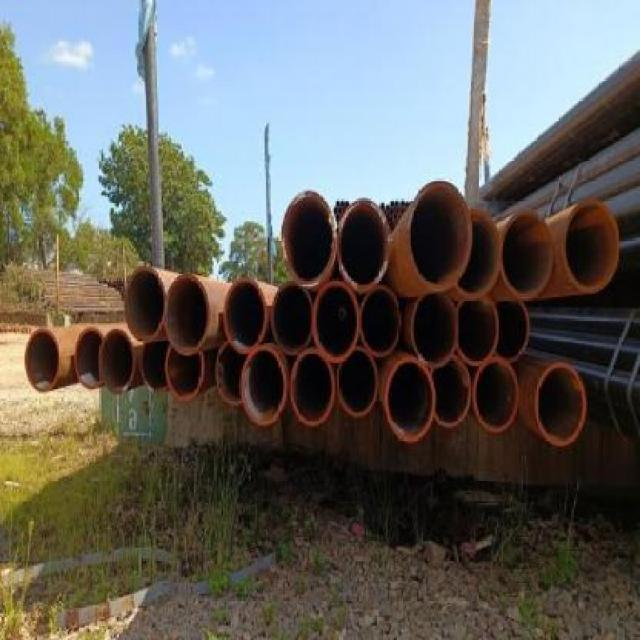pipe: (405, 178, 474, 291), (560, 195, 622, 294), (280, 186, 338, 286), (337, 197, 392, 294), (500, 206, 554, 300), (534, 357, 588, 448), (449, 208, 503, 299), (385, 357, 438, 442), (311, 277, 359, 362), (410, 288, 459, 368), (289, 345, 337, 425), (242, 345, 288, 428), (165, 273, 211, 356), (122, 263, 167, 343), (454, 294, 502, 368), (222, 279, 270, 353), (472, 358, 520, 431), (359, 283, 404, 359), (428, 356, 473, 431), (270, 281, 313, 357), (22, 318, 64, 394), (336, 346, 379, 420), (95, 327, 137, 396), (489, 294, 531, 362), (166, 340, 206, 402), (216, 339, 251, 407), (72, 325, 105, 393), (140, 337, 168, 394)
